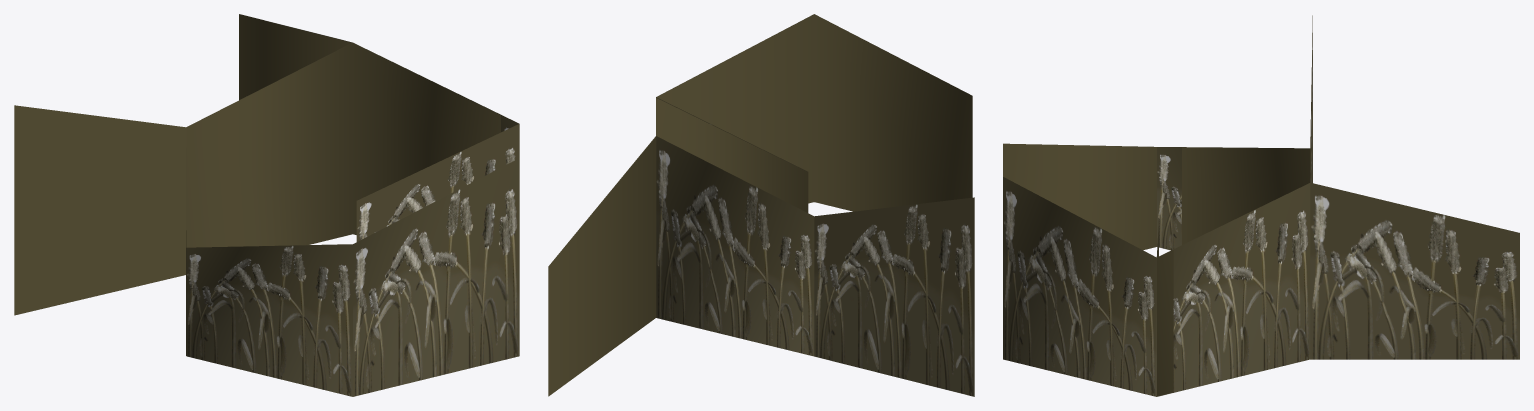
The model's file is Mveg10.glb.
3 renders of one model, left to right at view 1: azimuth 30°, elevation 25°; view 2: azimuth 150°, elevation 25°; view 3: azimuth 270°, elevation 25°, orthographic. The views are drawn at different scales.
Parts seen in each view (by area): view 1: 01 Mesh0.001, 01 Mesh0; view 2: 01 Mesh0.001, 01 Mesh0; view 3: 01 Mesh0, 01 Mesh0.001.
Part boxes in pixels (x1,y1,x2,y2): 01 Mesh0.001: (14,14,519,355); 01 Mesh0: (14,14,519,396); 01 Mesh0.001: (548,14,972,395); 01 Mesh0: (548,14,974,396); 01 Mesh0: (1003,21,1519,396); 01 Mesh0.001: (1003,15,1519,396).
Size of the model in its own units: 4.74 by 2.26 by 5.47.
2 materials, 1 textured.
